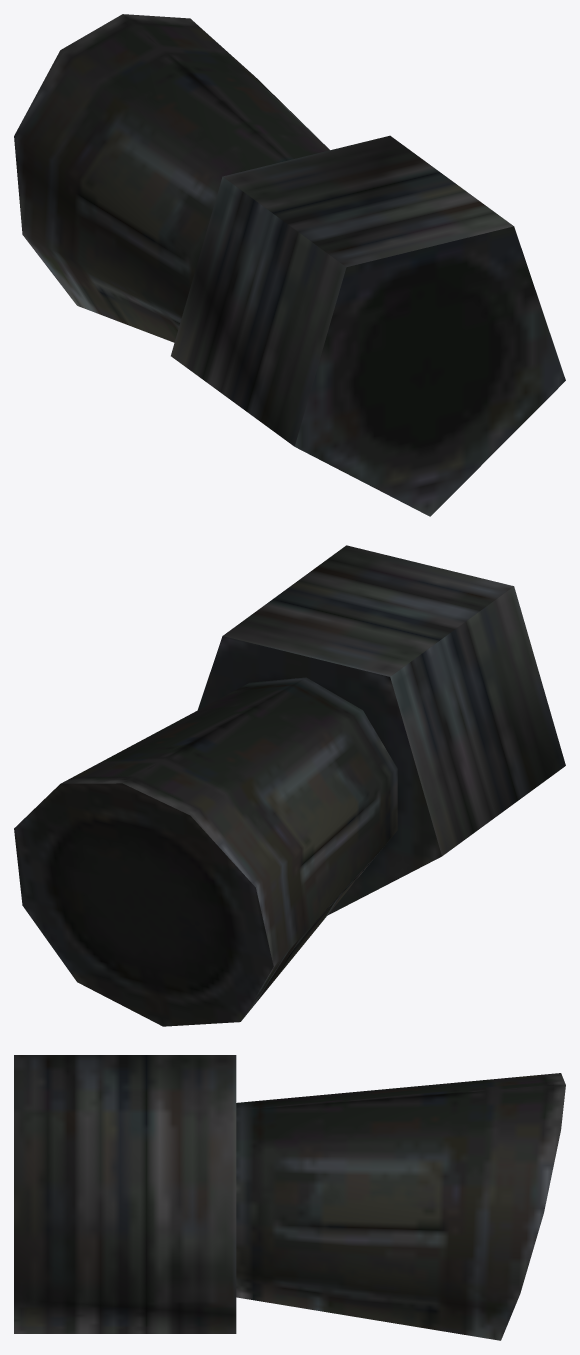
The model's file is Assault_Rifle_bq_qt_02_lod2_Stock_LOD_(000967).glb.
3 renders of one model, top to bottom at view 1: azimuth 30°, elevation 25°; view 2: azimuth 150°, elevation 25°; view 3: azimuth 270°, elevation 25°, orthographic. The views are drawn at different scales.
Parts seen in each view (by area): view 1: bq_qt_02_lod2; view 2: bq_qt_02_lod2; view 3: bq_qt_02_lod2.
Part boxes in pixels (box(x1,y1,x2,y2)): bq_qt_02_lod2: box(14, 14, 565, 516); bq_qt_02_lod2: box(14, 545, 565, 1026); bq_qt_02_lod2: box(14, 1055, 565, 1340).
Bounding box in the file's own units: 0.0528 × 0.0516 × 0.1036.
1 material, 1 textured.
